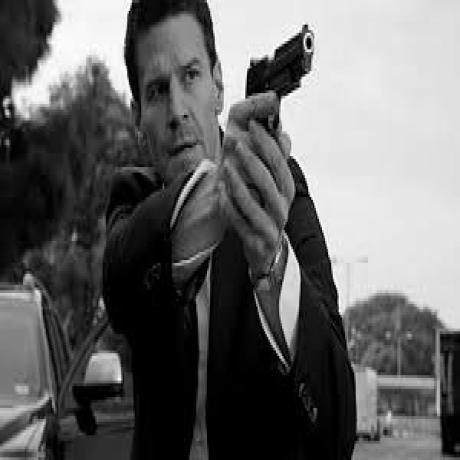Guns: (244, 25, 316, 145)
